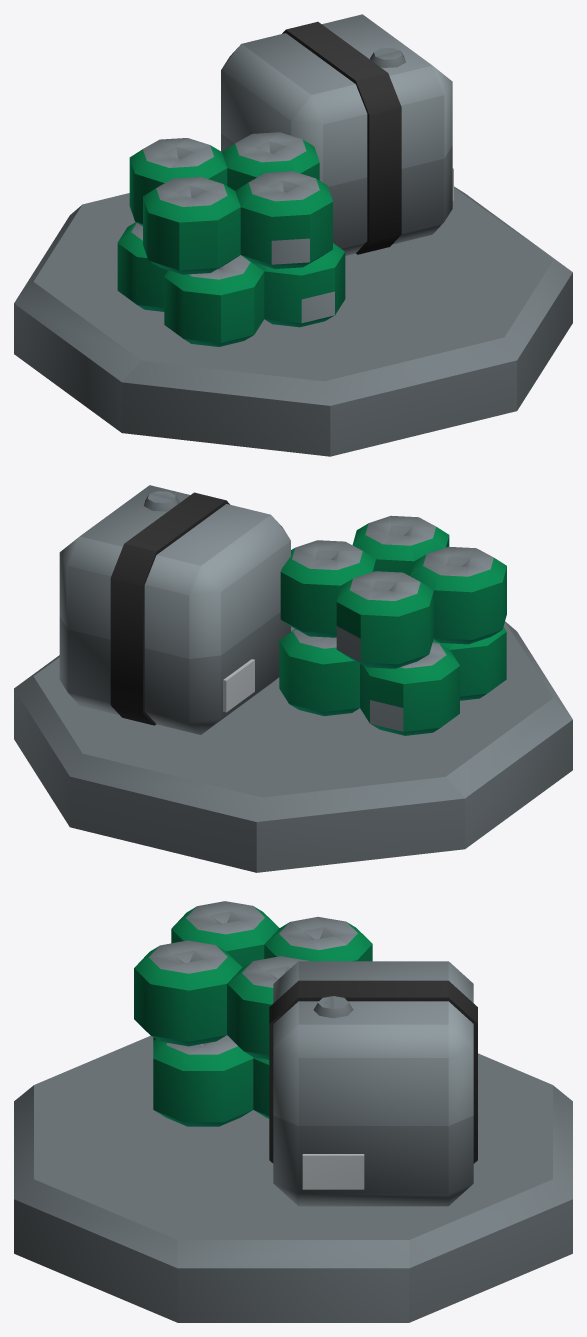
The model's file is space-roofmodule-cargo-a.glb.
The picture shows the model from 3 angles, top to bottom: view 1: azimuth 30°, elevation 25°; view 2: azimuth 150°, elevation 25°; view 3: azimuth 270°, elevation 25°; orthographic projection. The views are drawn at different scales.
Parts seen in each view (by area): view 1: roofmodule_cargo_A; view 2: roofmodule_cargo_A; view 3: roofmodule_cargo_A.
Part boxes in pixels (left/top/right/bottom): roofmodule_cargo_A: left=14, top=14, right=572, bottom=456; roofmodule_cargo_A: left=14, top=485, right=572, bottom=872; roofmodule_cargo_A: left=14, top=901, right=572, bottom=1322.
Size of the model in its own units: 1.4 by 0.72 by 1.4.
